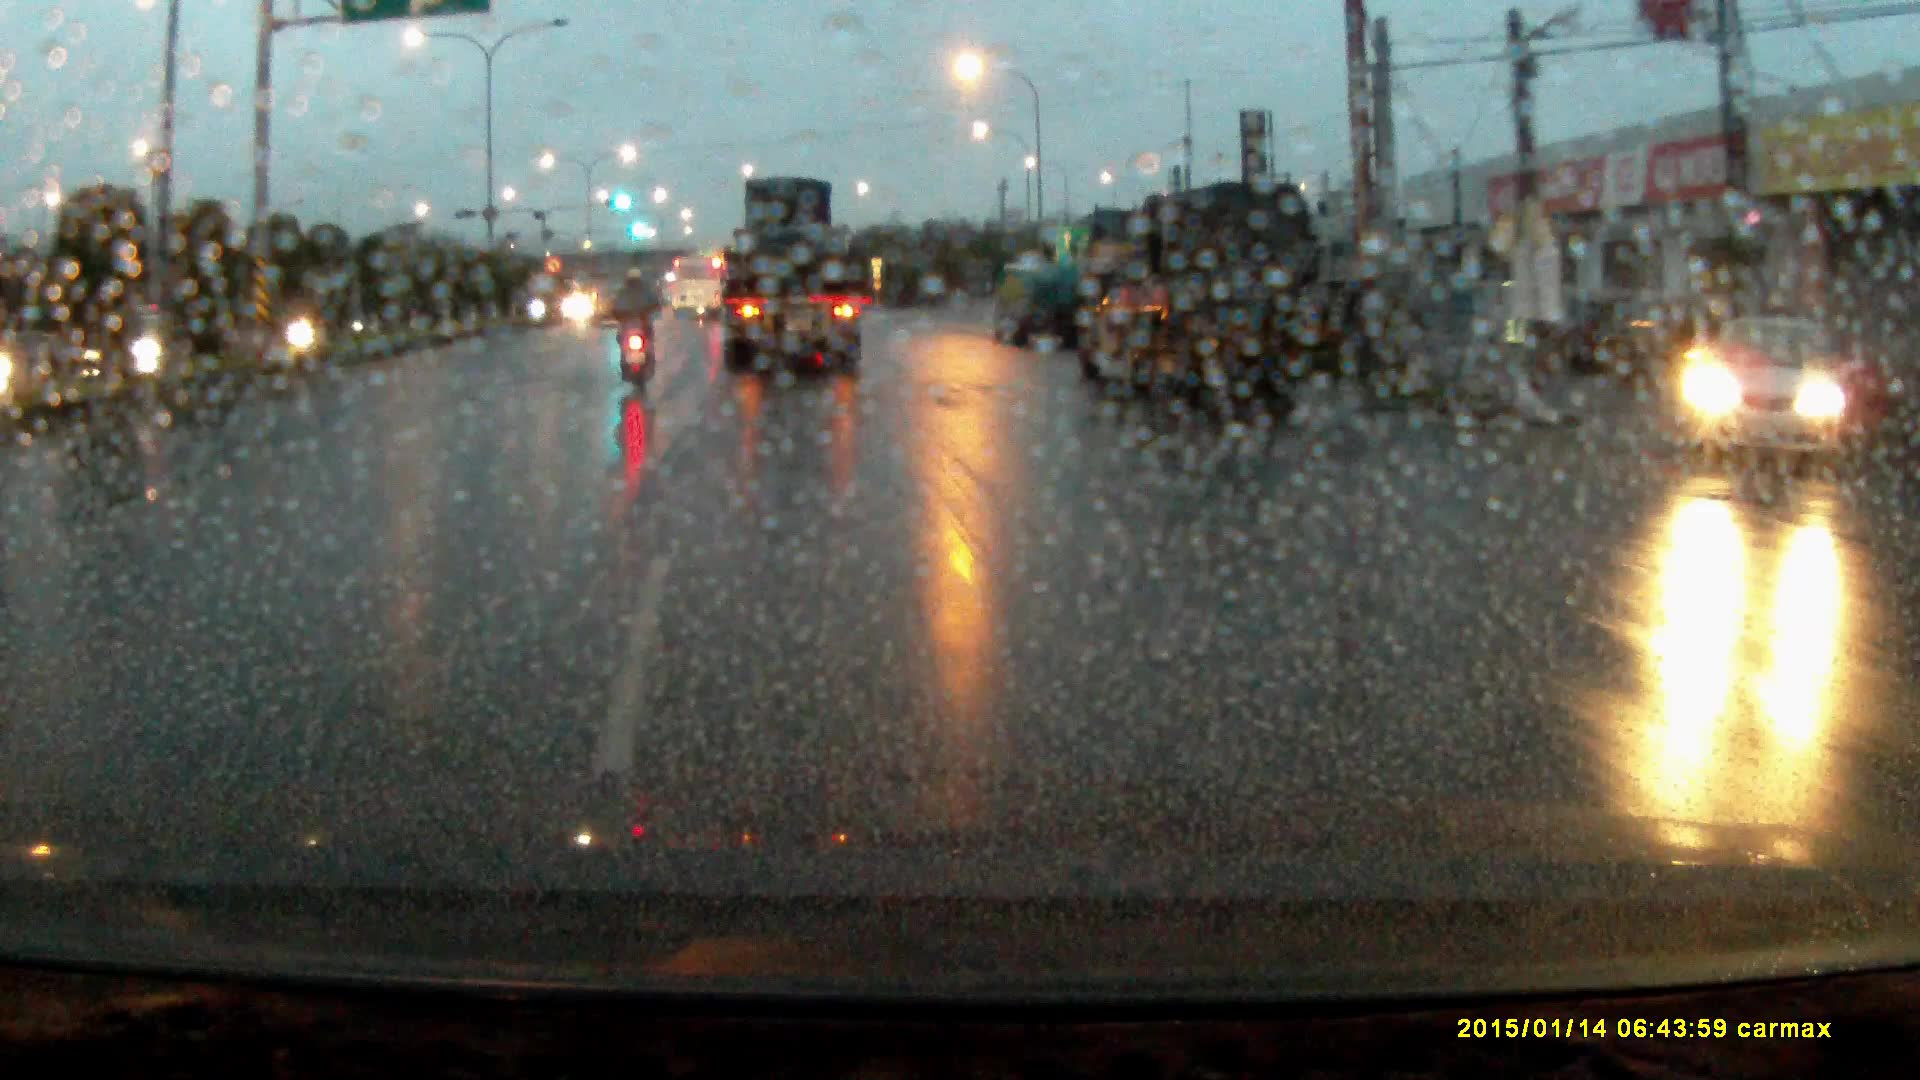rider: (615, 268, 670, 398)
vehicle: (1073, 186, 1331, 425), (1680, 310, 1873, 465), (727, 176, 862, 371), (992, 263, 1087, 347), (671, 257, 724, 321), (592, 284, 642, 330)
